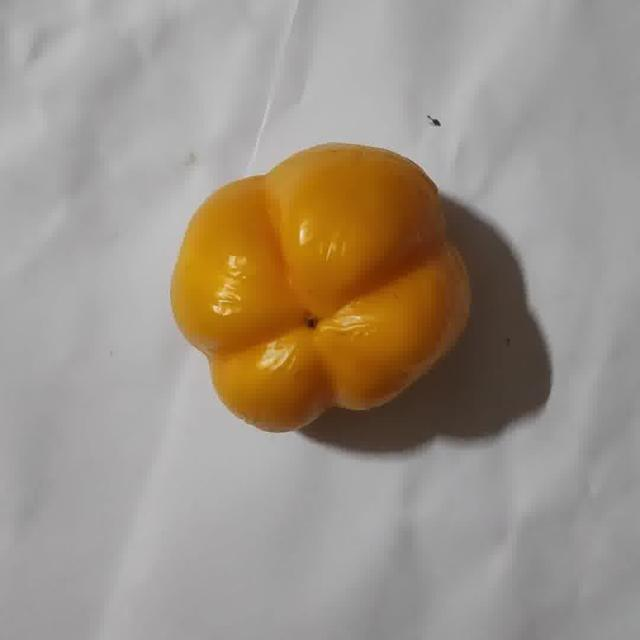Bell Pepper: (171, 143, 469, 432)
